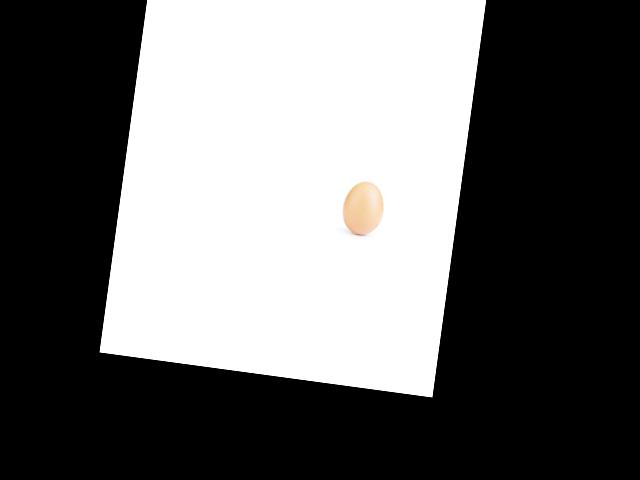egg: (339, 179, 386, 237)
